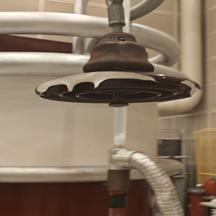insulator: (29, 25, 210, 124)
